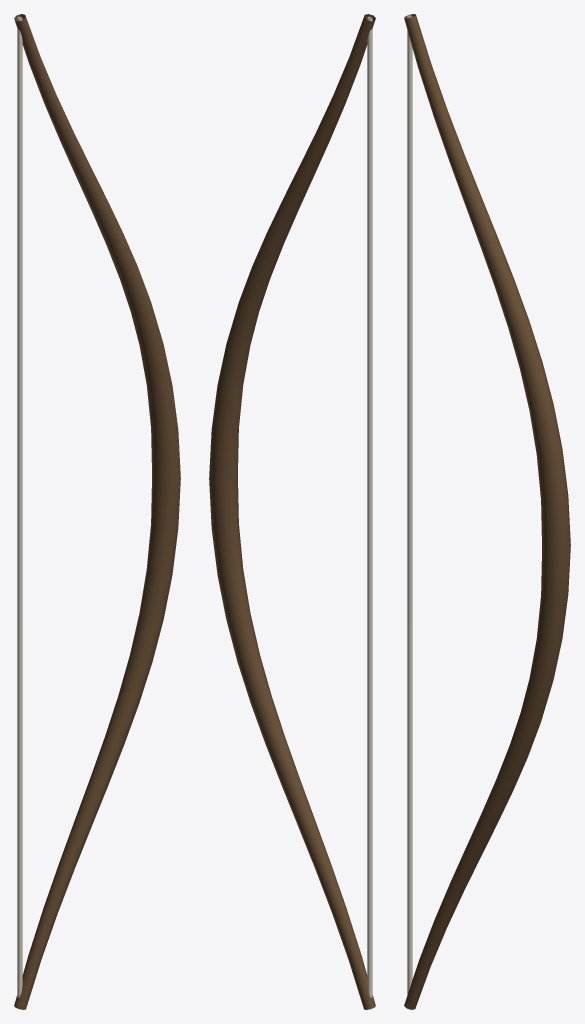
Rendered from bow_t1.glb.
3 renders of one model, left to right at view 1: azimuth 30°, elevation 25°; view 2: azimuth 150°, elevation 25°; view 3: azimuth 330°, elevation 25°, orthographic.
Visible parts, largest first — view 1: Bow; view 2: Bow; view 3: Bow.
Boxes of the visible parts, x1,y1,x2,y2 form: Bow: (14, 14, 180, 1009); Bow: (209, 14, 375, 1009); Bow: (404, 14, 570, 1009).
Bounding box in the file's own units: 0.2157 × 1.24 × 0.0338.
